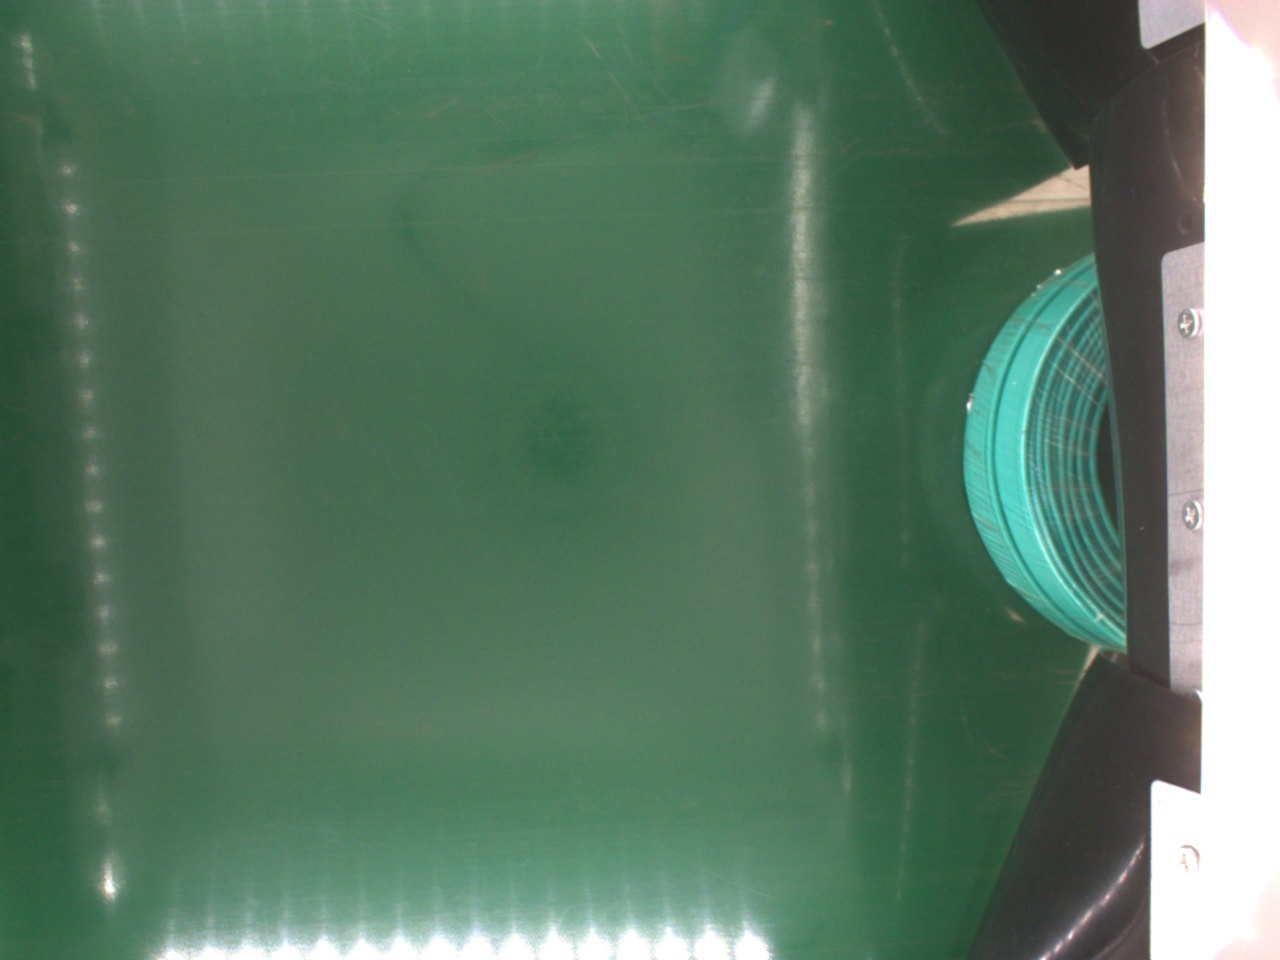green: (957, 254, 1131, 653)
